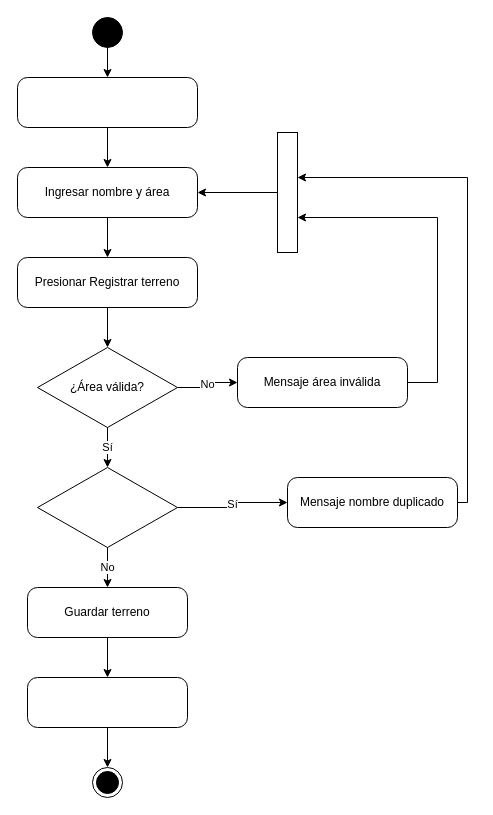
Some shapes in this 493 by 815 pixel diagram are drawn without their labels. Each missing label, with the centre of its shape:
"Mostrar formulario terreno" belongs at point (107, 102).
"Mostrar mensaje éxito" belongs at point (107, 702).
"¿Nombre existente?" belongs at point (107, 507).
